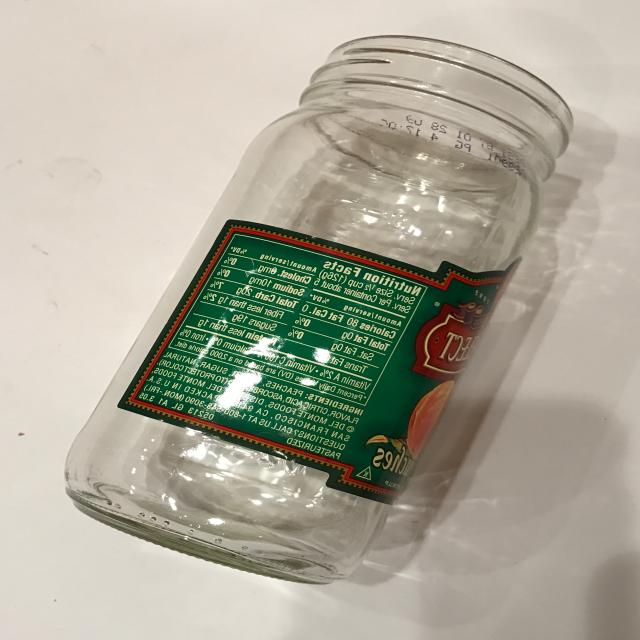glass: (63, 34, 574, 585)
